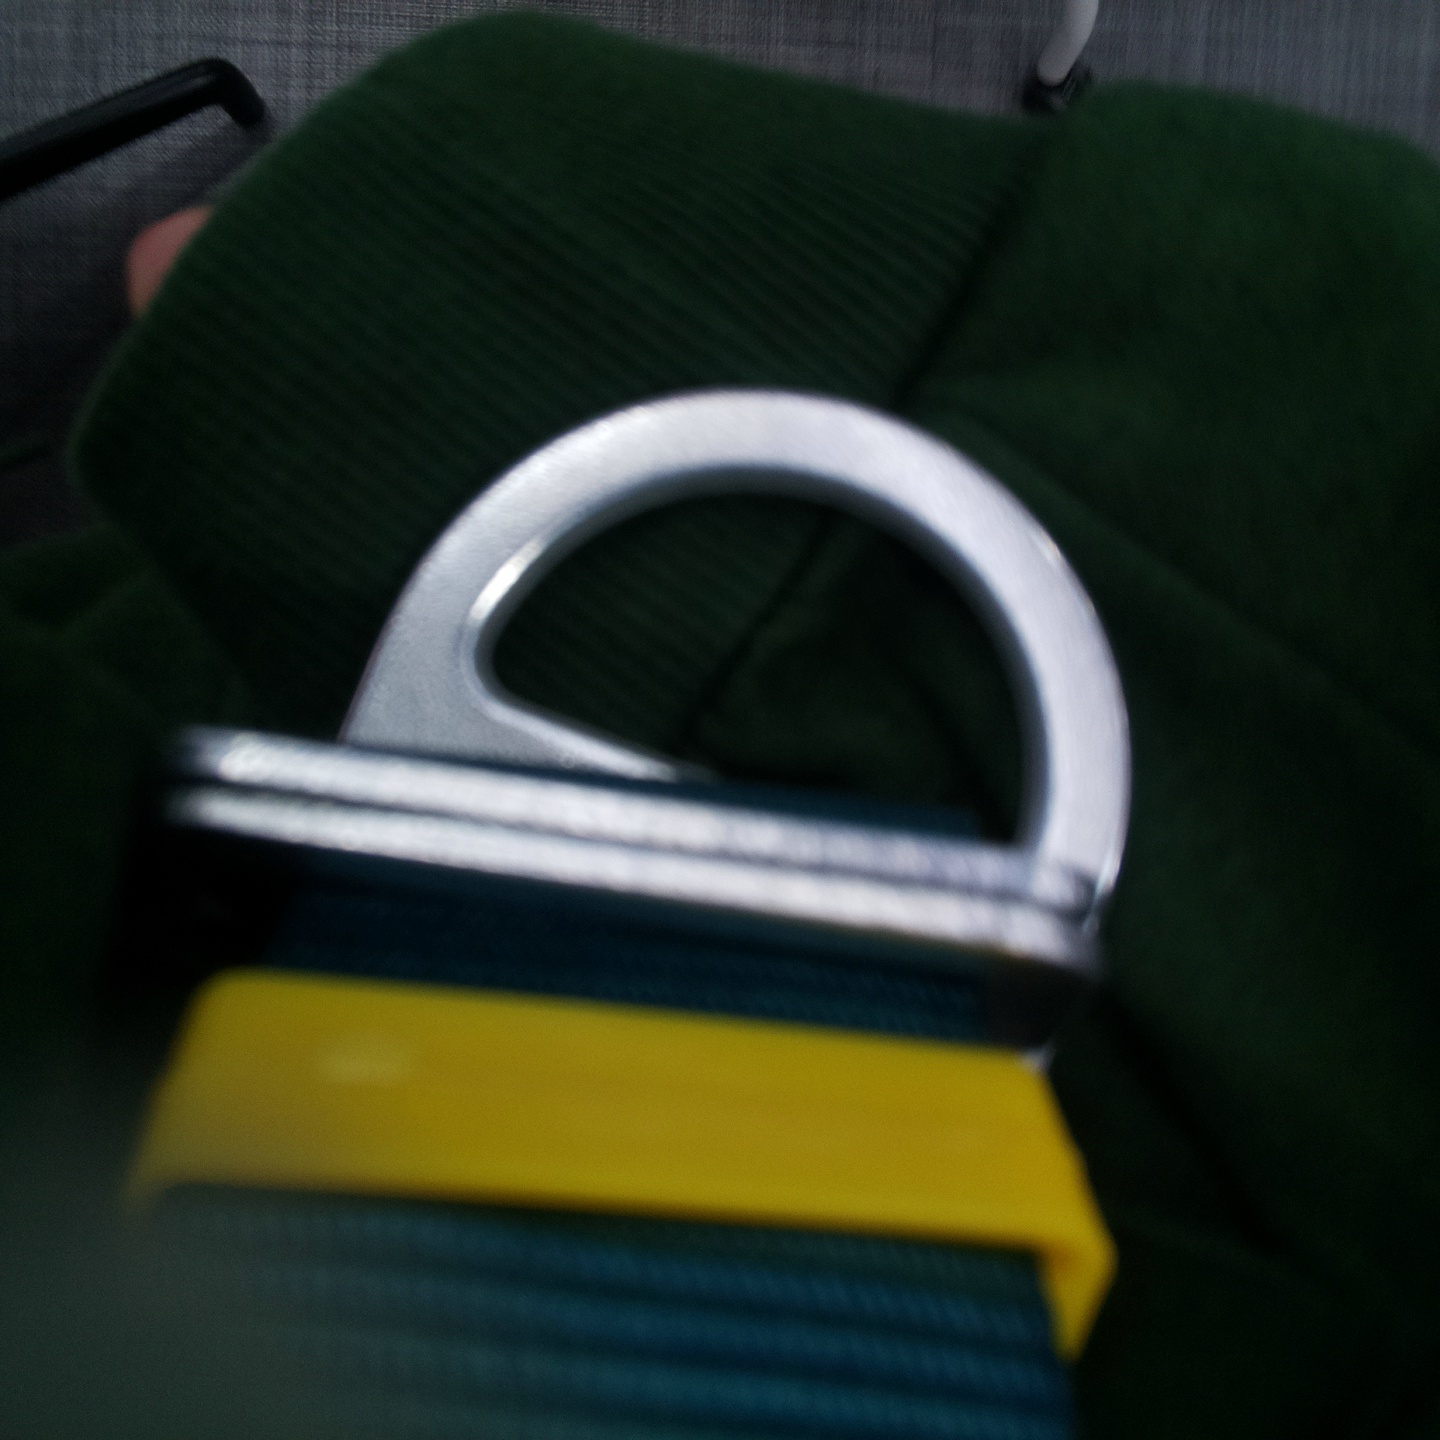UNSUCCESS: (361, 367, 1149, 847)
